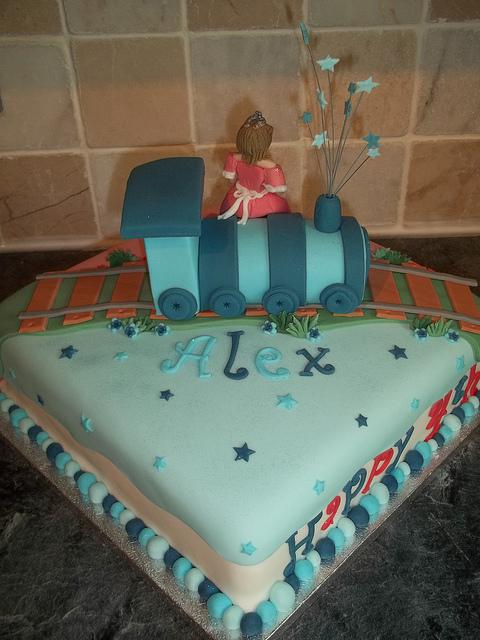Train: (121, 22, 382, 322)
